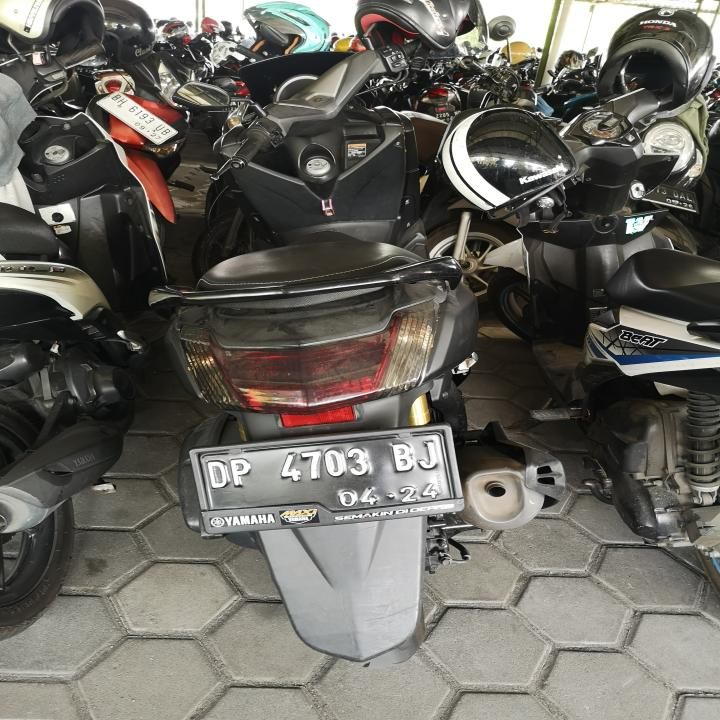plate: (198, 430, 459, 515), (97, 89, 178, 147)
